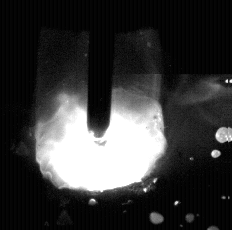arame: (88, 0, 113, 137)
poca: (34, 0, 167, 230)
